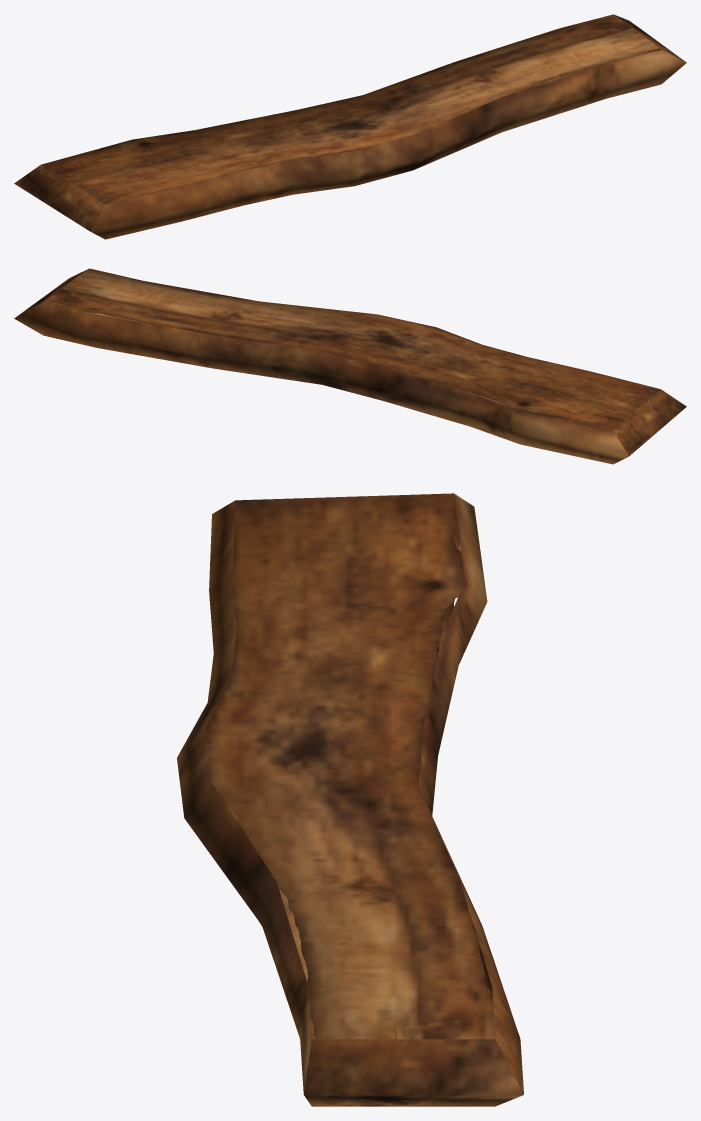
File: driftwood_2.FBX
The picture shows the model from 3 angles, top to bottom: view 1: azimuth 30°, elevation 25°; view 2: azimuth 150°, elevation 25°; view 3: azimuth 270°, elevation 25°; orthographic projection. The views are drawn at different scales.
Visible parts, largest first — view 1: ddriftwood_2; view 2: ddriftwood_2; view 3: ddriftwood_2.
Part boxes in pixels (x1=…): ddriftwood_2: x1=14, y1=14, x2=686, y2=239; ddriftwood_2: x1=14, y1=268, x2=686, y2=464; ddriftwood_2: x1=177, y1=493, x2=523, y2=1106.
Bounding box in the file's own units: 201 × 10.7 × 50.09.
